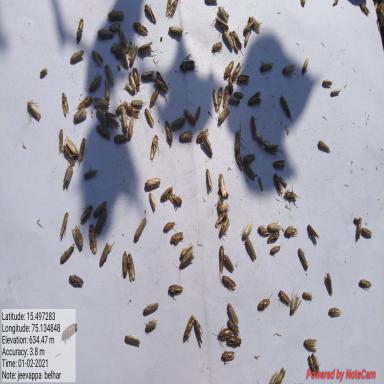pbw: (213, 326, 233, 348), (99, 240, 115, 264), (231, 58, 247, 81), (182, 313, 194, 343), (178, 249, 194, 271), (79, 200, 94, 223), (138, 39, 157, 57), (256, 291, 274, 310), (134, 215, 147, 241), (95, 208, 107, 236), (88, 222, 98, 255), (26, 99, 40, 122), (178, 56, 196, 73), (240, 219, 252, 244), (218, 214, 230, 239), (126, 252, 136, 282), (280, 94, 292, 119), (62, 162, 73, 189), (64, 135, 78, 156), (144, 1, 156, 25), (289, 290, 300, 316), (226, 302, 238, 325), (297, 245, 308, 270), (63, 145, 76, 166), (76, 94, 92, 111), (284, 185, 302, 200), (72, 225, 83, 249), (193, 320, 204, 344), (214, 210, 227, 230), (96, 124, 112, 140), (107, 7, 124, 22), (60, 244, 75, 261), (162, 119, 173, 142), (88, 72, 102, 90), (246, 237, 256, 262), (234, 123, 242, 154), (214, 14, 229, 30), (218, 104, 230, 124), (316, 138, 331, 154), (132, 20, 148, 35), (128, 43, 138, 67), (77, 136, 85, 166), (359, 0, 373, 17), (144, 107, 155, 128), (222, 30, 234, 49), (303, 337, 318, 352), (144, 318, 158, 334), (222, 274, 236, 290), (97, 107, 108, 127), (202, 136, 213, 156), (311, 352, 321, 374), (105, 110, 117, 128), (155, 69, 167, 87), (126, 115, 134, 142), (150, 133, 158, 160), (224, 253, 234, 274), (72, 107, 86, 122), (248, 90, 262, 105), (68, 272, 83, 286), (160, 185, 174, 200), (69, 48, 84, 62), (76, 16, 84, 42), (168, 283, 184, 296), (120, 106, 128, 132), (144, 177, 160, 190), (120, 44, 128, 70), (226, 334, 242, 347), (61, 89, 69, 115), (227, 319, 240, 335), (94, 200, 107, 216), (242, 18, 255, 34), (142, 302, 158, 315), (243, 162, 255, 179), (218, 5, 230, 22), (93, 95, 110, 107), (325, 271, 333, 296), (234, 152, 244, 172), (223, 59, 234, 77), (105, 63, 114, 85), (266, 230, 280, 244), (126, 103, 140, 117), (154, 77, 167, 92), (196, 127, 209, 142), (170, 230, 183, 245), (91, 49, 103, 65), (124, 334, 140, 346), (307, 223, 319, 239), (60, 211, 68, 235), (266, 220, 282, 232), (218, 245, 225, 272), (184, 107, 195, 124), (279, 289, 290, 306), (249, 15, 260, 32), (274, 172, 282, 195), (180, 244, 193, 258), (179, 130, 193, 143), (220, 350, 234, 363), (149, 88, 159, 106), (96, 28, 114, 38), (268, 369, 280, 384), (118, 28, 127, 48), (277, 364, 286, 384), (301, 53, 309, 75), (132, 66, 140, 88), (259, 60, 275, 71), (122, 249, 128, 278), (264, 143, 283, 152), (237, 73, 250, 86), (168, 24, 182, 36), (284, 224, 298, 236), (84, 166, 98, 178), (172, 116, 184, 130), (163, 220, 177, 232), (282, 62, 296, 74), (216, 84, 222, 112), (355, 216, 362, 240), (168, 0, 177, 18), (126, 38, 133, 61), (308, 355, 316, 375), (219, 172, 225, 198), (243, 152, 256, 164), (359, 277, 371, 290), (116, 99, 128, 112), (232, 29, 241, 46), (114, 134, 129, 144), (110, 42, 125, 52), (124, 82, 136, 94), (269, 243, 281, 255), (250, 114, 256, 138), (115, 46, 128, 57), (211, 40, 222, 53), (130, 98, 144, 108), (105, 78, 111, 101), (222, 84, 228, 107), (170, 194, 182, 205), (141, 70, 154, 80), (328, 306, 341, 316), (206, 168, 212, 189), (149, 192, 156, 210), (58, 128, 63, 153), (258, 224, 269, 235), (129, 71, 135, 91), (218, 201, 230, 211), (361, 227, 373, 237), (330, 86, 340, 97), (228, 95, 240, 104), (109, 22, 122, 30), (244, 29, 250, 46), (195, 104, 201, 121), (228, 73, 233, 93), (273, 160, 285, 168), (257, 135, 265, 147), (165, 0, 171, 15), (279, 176, 287, 187), (322, 78, 333, 86), (302, 291, 313, 299), (204, 0, 218, 6), (217, 190, 229, 197), (233, 91, 243, 98), (332, 0, 340, 8), (213, 89, 217, 105), (300, 0, 304, 6)
